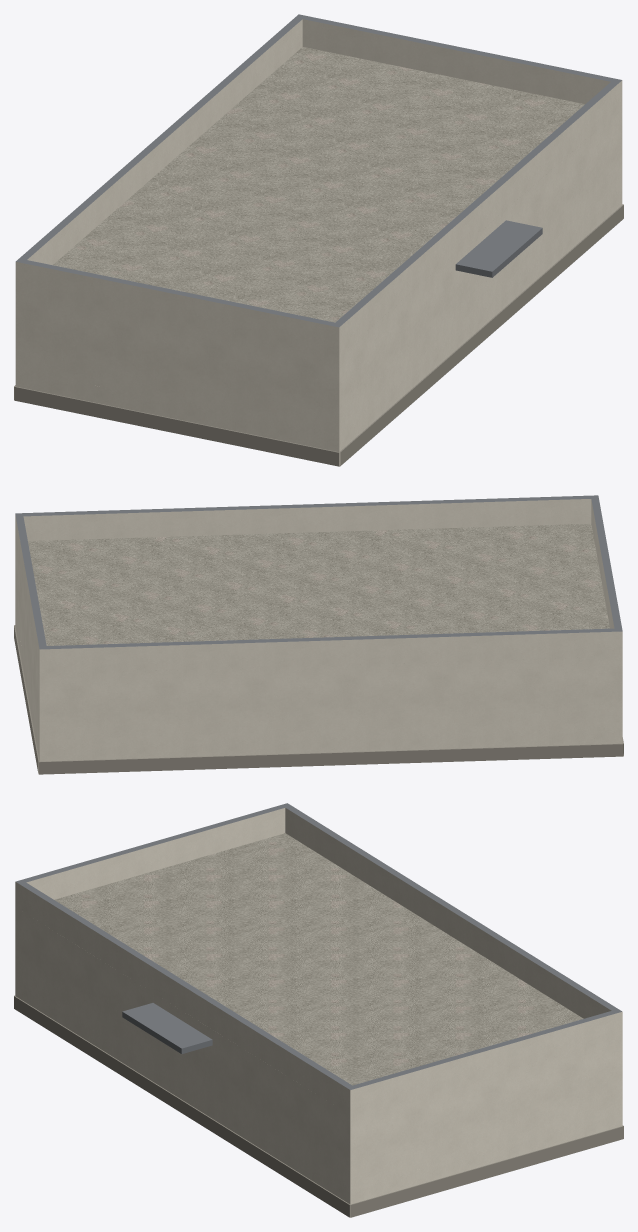
3 views of the same model, one above another, from view 1: azimuth 30°, elevation 25°; view 2: azimuth 150°, elevation 25°; view 3: azimuth 270°, elevation 25° (orthographic). The views are drawn at different scales.
Visible parts, largest first — view 1: B-w720862894_cubierta, B-w720862894_muros, B-w720862894_lejos, B-w720862894_molduras, B-w720862894_remates; view 2: B-w720862894_cubierta, B-w720862894_lejos, B-w720862894_muros, B-w720862894_molduras; view 3: B-w720862894_cubierta, B-w720862894_lejos, B-w720862894_muros, B-w720862894_molduras, B-w720862894_remates.
Part boxes in pixels (x1=…): B-w720862894_cubierta: x1=16, y1=14, x2=621, y2=327; B-w720862894_muros: x1=15, y1=80, x2=622, y2=465; B-w720862894_lejos: x1=82, y1=110, x2=619, y2=450; B-w720862894_molduras: x1=14, y1=204, x2=623, y2=466; B-w720862894_remates: x1=455, y1=220, x2=542, y2=277; B-w720862894_cubierta: x1=15, y1=495, x2=622, y2=671; B-w720862894_lejos: x1=20, y1=609, x2=622, y2=761; B-w720862894_muros: x1=15, y1=495, x2=622, y2=769; B-w720862894_molduras: x1=14, y1=625, x2=623, y2=774; B-w720862894_cubierta: x1=16, y1=803, x2=621, y2=1089; B-w720862894_lejos: x1=17, y1=908, x2=622, y2=1216; B-w720862894_muros: x1=15, y1=881, x2=622, y2=1216; B-w720862894_molduras: x1=14, y1=995, x2=623, y2=1217; B-w720862894_remates: x1=122, y1=1003, x2=212, y2=1053.
Size of the model in its own units: 21.88 by 4.5 by 19.57.
Materials: 5 (2 with a texture image).
